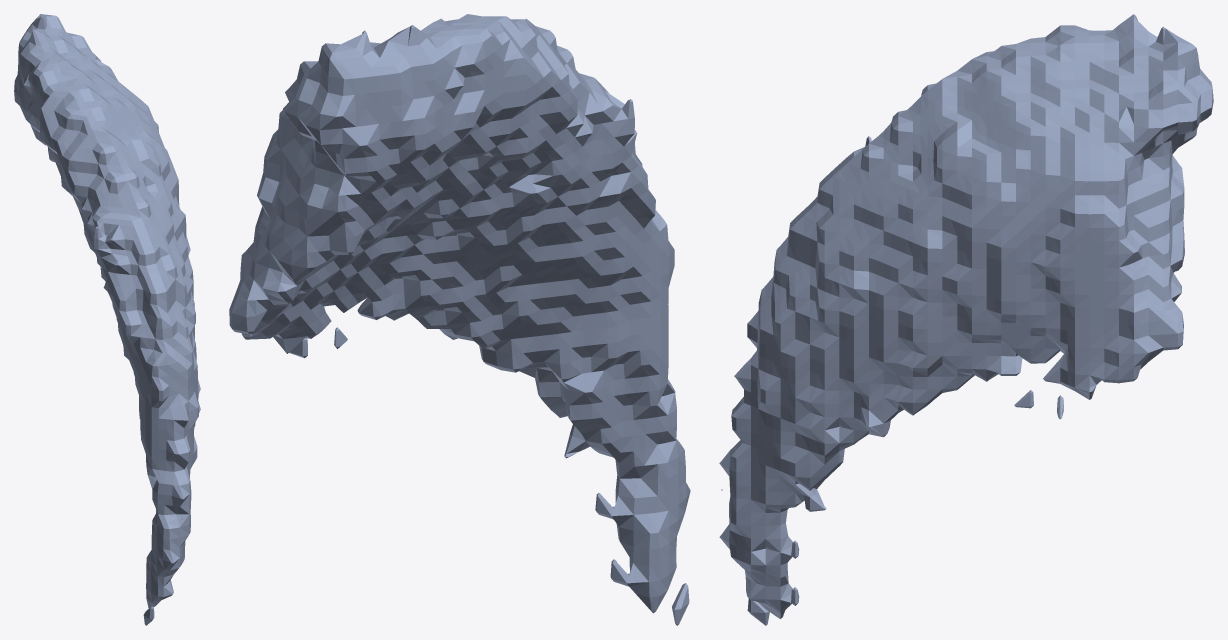
File: l_caudate.glb
3 views of the same model, side by side, from view 1: azimuth 30°, elevation 25°; view 2: azimuth 150°, elevation 25°; view 3: azimuth 270°, elevation 25° (orthographic). The views are drawn at different scales.
Visible parts, largest first — view 1: world; view 2: world; view 3: world.
Boxes of the visible parts, x1,y1,x2,y2 form: world: (14,14,200,625); world: (229,14,690,625); world: (719,14,1213,625).
Size of the model in its own units: 15.74 by 47.27 by 33.58.
